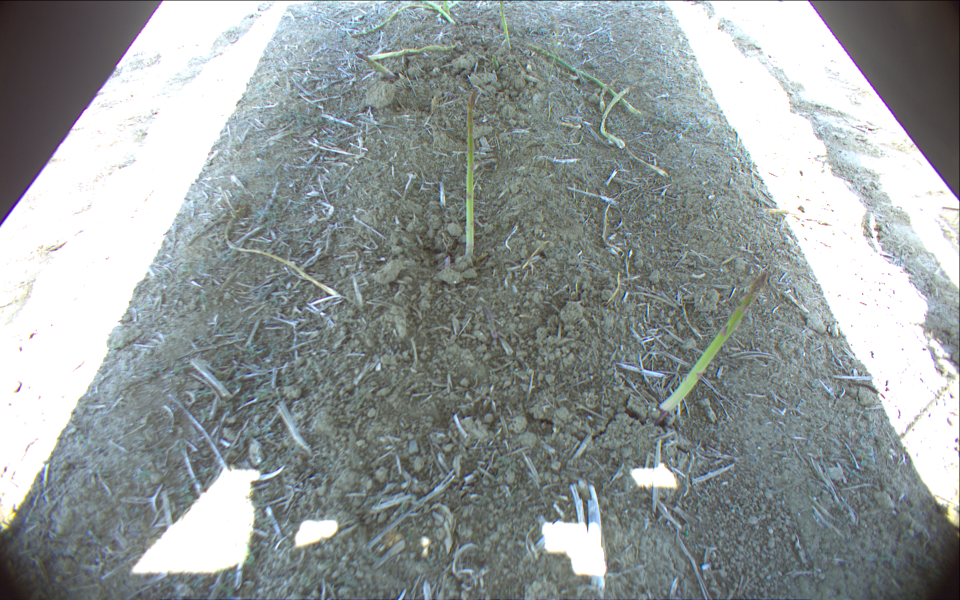aspa: (656, 269, 770, 413), (221, 204, 344, 298), (527, 43, 643, 116), (354, 1, 437, 36), (367, 40, 462, 61), (599, 87, 632, 147), (464, 89, 475, 255), (357, 50, 396, 79), (426, 1, 455, 23), (499, 1, 512, 50), (599, 78, 614, 113), (443, 1, 450, 16)
